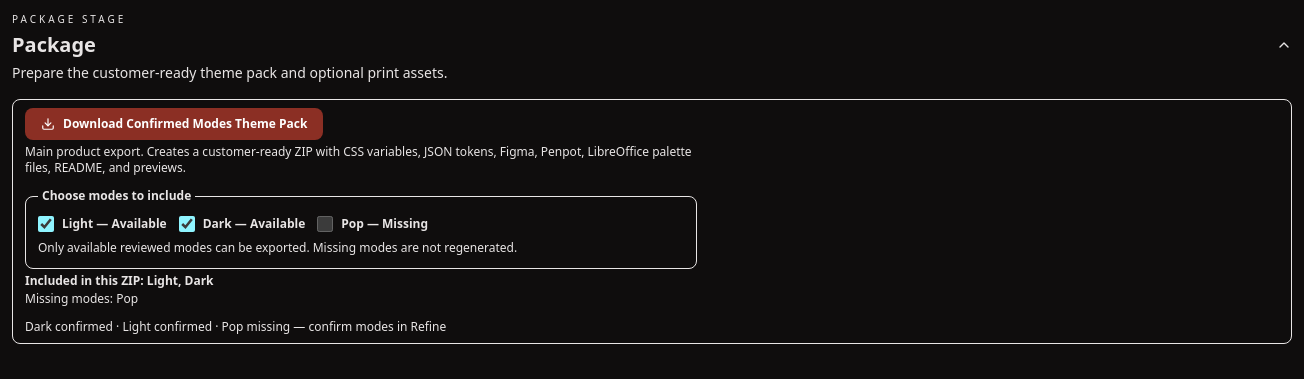
Test: PackageStage › disables Theme Pack export when every available mode is deselected
Click the checkbox labelled "Light — Available" at (46, 224), box 38,216 -> 54,232
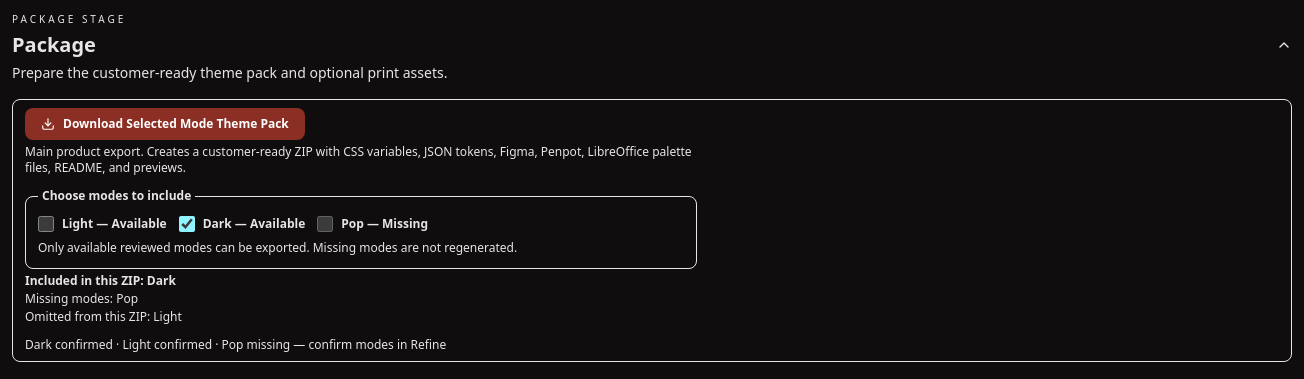
Click the checkbox labelled "Dark — Available" at (187, 224), box 179,216 -> 195,232
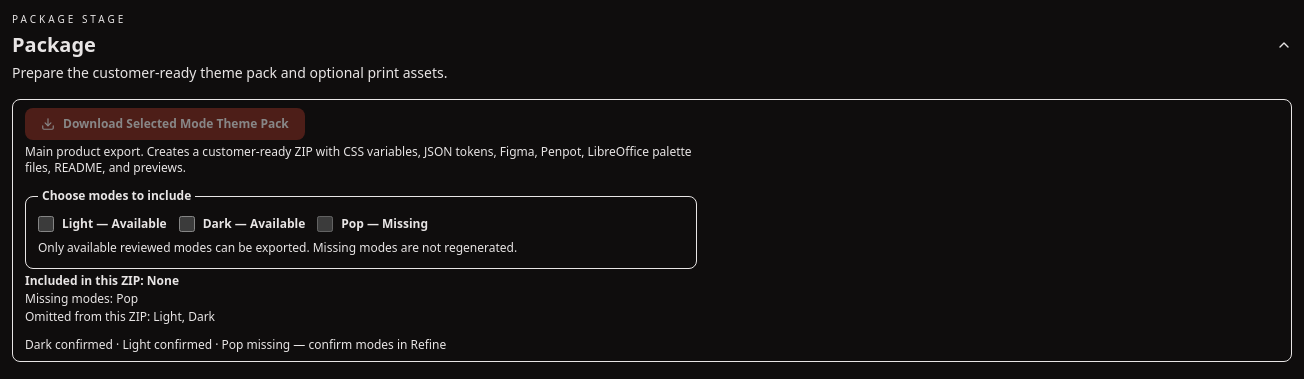
Expected: the text "Included in this ZIP: None" is shown, 25,272 -> 179,289
Expected: the button "Download Selected Mode Theme Pack" is disabled, 25,108 -> 305,140
